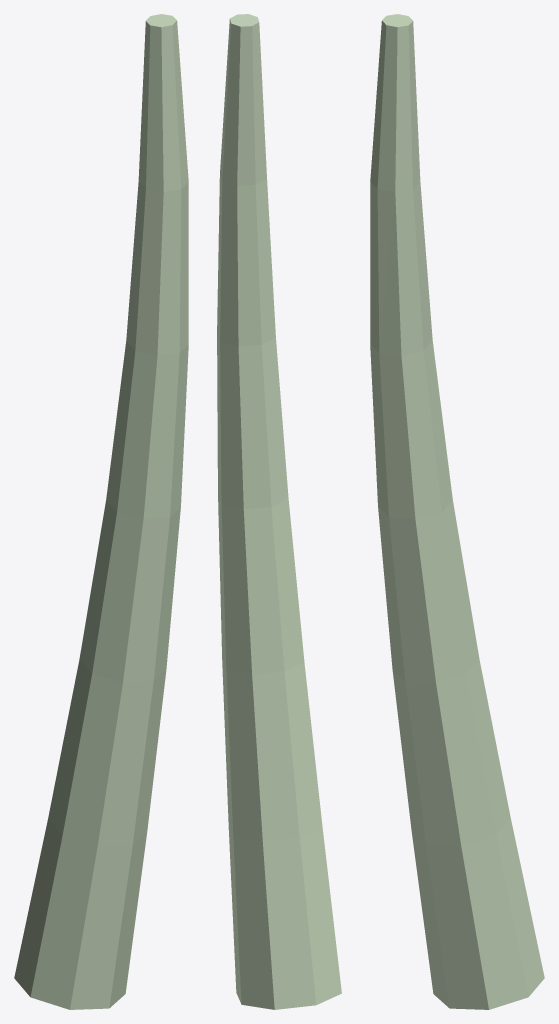
File: sprout_monocot.glb
3 renders of one model, left to right at view 1: azimuth 90°, elevation 25°; view 2: azimuth 210°, elevation 25°; view 3: azimuth 270°, elevation 25°, orthographic. The views are drawn at different scales.
Parts seen in each view (by area): view 1: stem; view 2: stem; view 3: stem.
Part boxes in pixels (bbox=[...]): stem: bbox=[14, 14, 188, 1009]; stem: bbox=[217, 14, 341, 1009]; stem: bbox=[370, 14, 544, 1009].
Bounding box in the file's own units: 0.0036 × 0.0343 × 0.00557.
